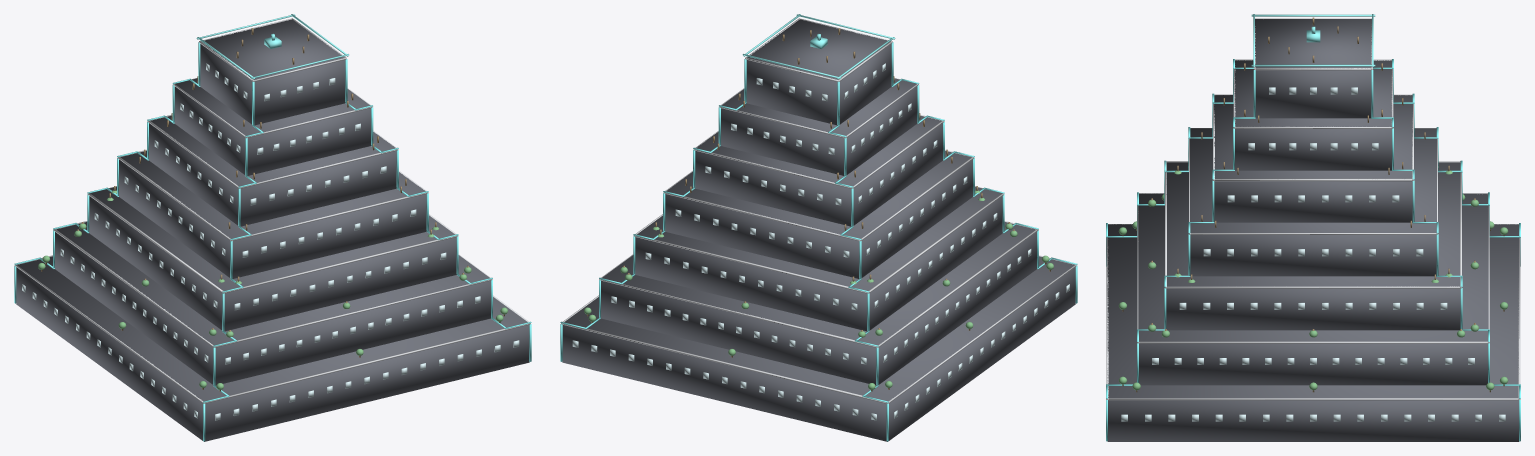
File: city_arcology.gltf
3 views of the same model, side by side, from view 1: azimuth 30°, elevation 25°; view 2: azimuth 150°, elevation 25°; view 3: azimuth 270°, elevation 25° (orthographic). The views are drawn at different scales.
Visible parts, largest first — view 1: Body, Trim, Windows, SpineLights, CrownLights, TreeLeaves, TreeTrunks; view 2: Body, Trim, Windows, SpineLights, CrownLights, TreeLeaves, TreeTrunks; view 3: Body, Trim, Windows, SpineLights, TreeLeaves, CrownLights, TreeTrunks.
Boxes of the visible parts, x1=… form: Body: x1=16, y1=19, x2=529, y2=441; Trim: x1=15, y1=18, x2=530, y2=403; Windows: x1=22, y1=63, x2=519, y2=420; SpineLights: x1=14, y1=42, x2=531, y2=441; CrownLights: x1=196, y1=14, x2=349, y2=79; TreeLeaves: x1=38, y1=190, x2=507, y2=389; TreeTrunks: x1=41, y1=28, x2=504, y2=391; Body: x1=562, y1=19, x2=1075, y2=441; Trim: x1=561, y1=18, x2=1076, y2=403; Windows: x1=572, y1=63, x2=1069, y2=420; SpineLights: x1=560, y1=42, x2=1077, y2=441; CrownLights: x1=742, y1=14, x2=895, y2=79; TreeLeaves: x1=584, y1=190, x2=1053, y2=389; TreeTrunks: x1=587, y1=28, x2=1050, y2=391; Body: x1=1107, y1=19, x2=1519, y2=441; Trim: x1=1106, y1=18, x2=1520, y2=400; Windows: x1=1121, y1=87, x2=1505, y2=421; SpineLights: x1=1106, y1=59, x2=1520, y2=441; TreeLeaves: x1=1118, y1=166, x2=1508, y2=390; CrownLights: x1=1251, y1=14, x2=1375, y2=67; TreeTrunks: x1=1122, y1=17, x2=1504, y2=392.
Size of the model in its own units: 121 by 105 by 121.
